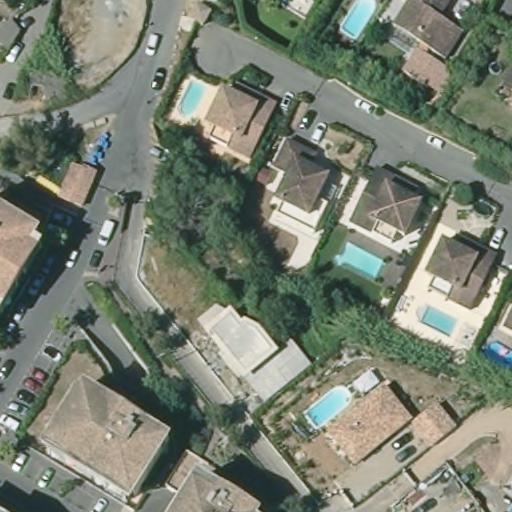pool: (332, 239, 383, 282), (306, 384, 351, 428), (339, 0, 378, 37), (418, 301, 457, 334), (176, 76, 206, 117), (484, 335, 511, 364)
